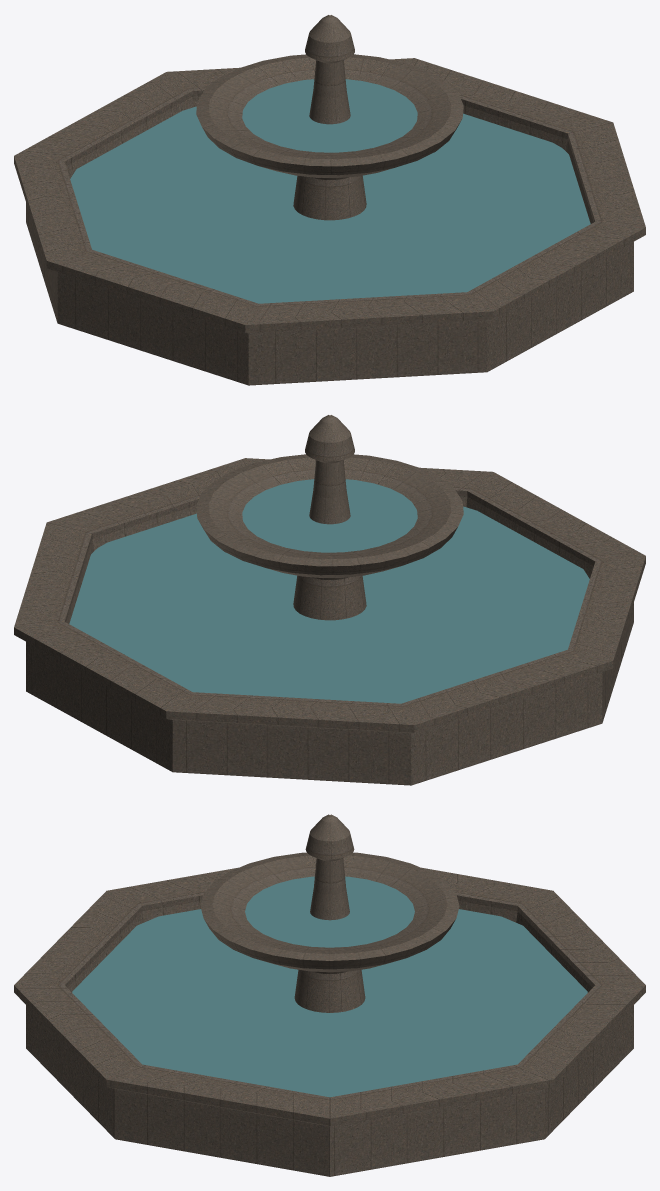
Rendered from fontaine_place_lod0.glb.
3 renders of one model, top to bottom at view 1: azimuth 30°, elevation 25°; view 2: azimuth 150°, elevation 25°; view 3: azimuth 270°, elevation 25°, orthographic. The views are drawn at different scales.
Parts seen in each view (by area): view 1: fontaine; view 2: fontaine; view 3: fontaine.
Part boxes in pixels (x1,y1,x2,y2): fontaine: (14, 15, 645, 385); fontaine: (14, 415, 645, 785); fontaine: (14, 814, 645, 1176).
Size of the model in its own units: 6.24 by 2.55 by 6.24.
2 materials, 1 textured.
